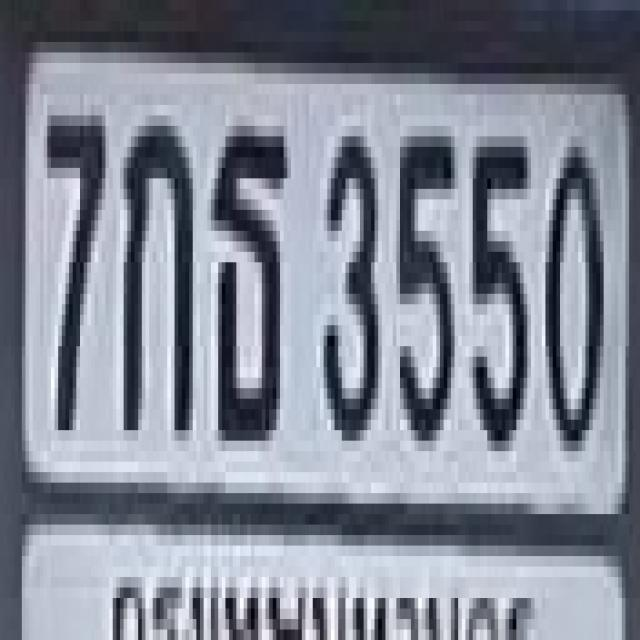-: (207, 116, 284, 430), (120, 110, 189, 425)
0: (542, 136, 600, 441)
3: (320, 126, 375, 430)
5: (469, 126, 524, 441), (396, 126, 451, 430)
7: (44, 105, 102, 420)
